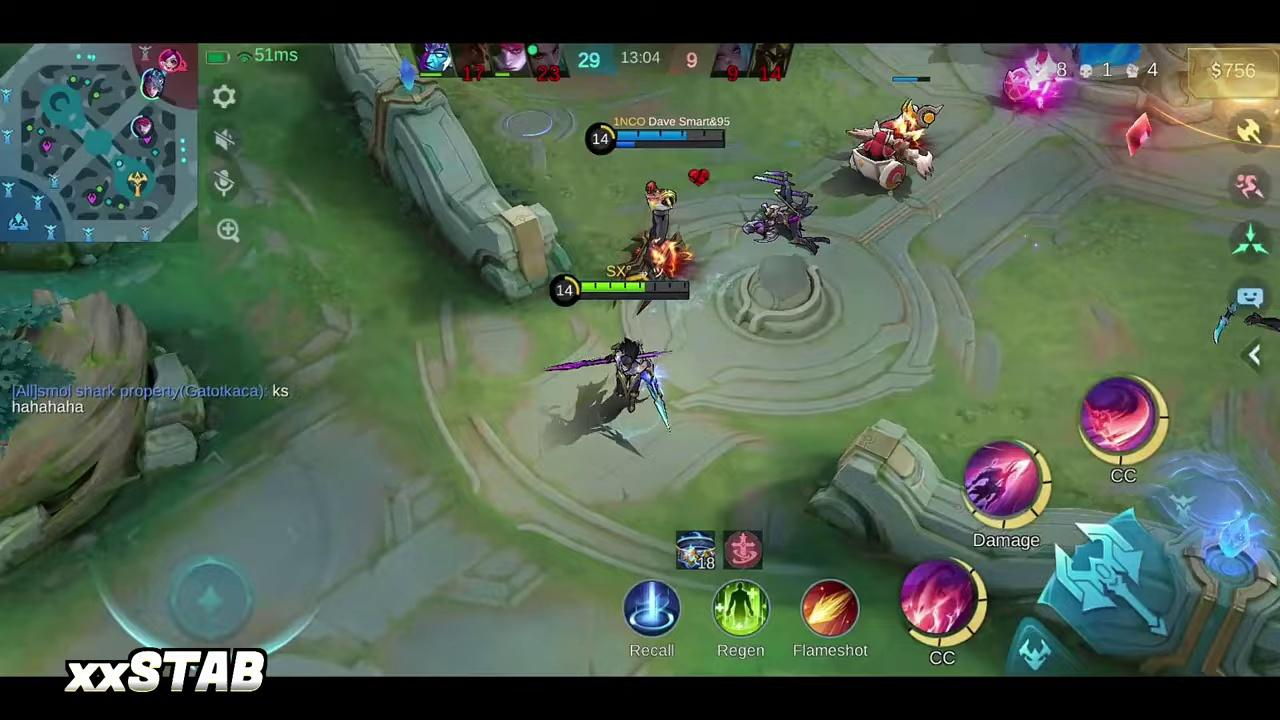Arlott: (559, 344, 676, 438)
Esbirro_Aliado: (845, 118, 918, 185), (1006, 49, 1069, 110)
Exp_Aliado: (139, 83, 159, 97)
Gord: (625, 176, 688, 286)
HP_Aliado: (615, 130, 723, 140)
HP_Heroe_Principal: (582, 281, 689, 292)
Hechizo_Batalla: (796, 583, 863, 641)
Jungla_Aliado: (133, 118, 154, 135)
Mana: (612, 137, 727, 148)
Mid_Aliado: (142, 68, 161, 81)
Mid_Enemigo: (155, 46, 181, 72)
Minimapa: (0, 40, 193, 239)
Skill1: (964, 443, 1048, 530), (897, 563, 980, 649)
Skill2: (1081, 373, 1169, 461)
Torre_destruida: (714, 256, 825, 337)
